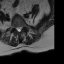CCS_normal: (18, 24, 20, 33)
LFS_normal: (21, 23, 23, 30)
LLS_normal: (20, 24, 21, 32)
RFS_stenosis: (14, 23, 16, 30)
RLS_normal: (16, 25, 18, 32)
